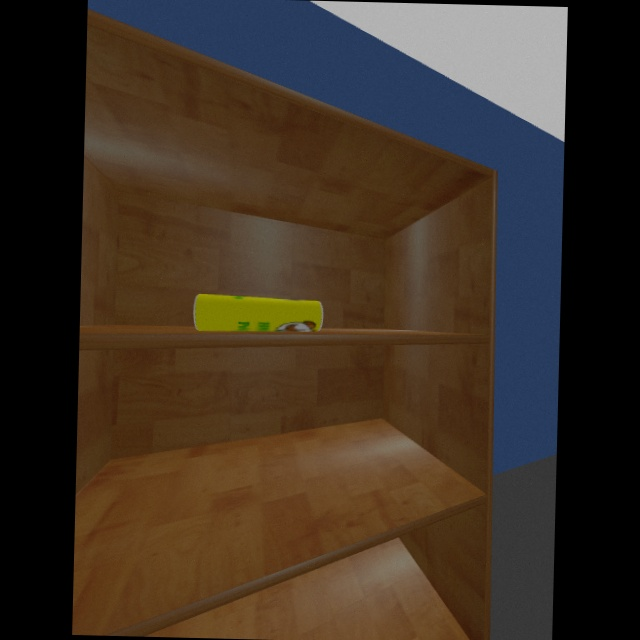chipsdose_gelb: (193, 293, 324, 332)
